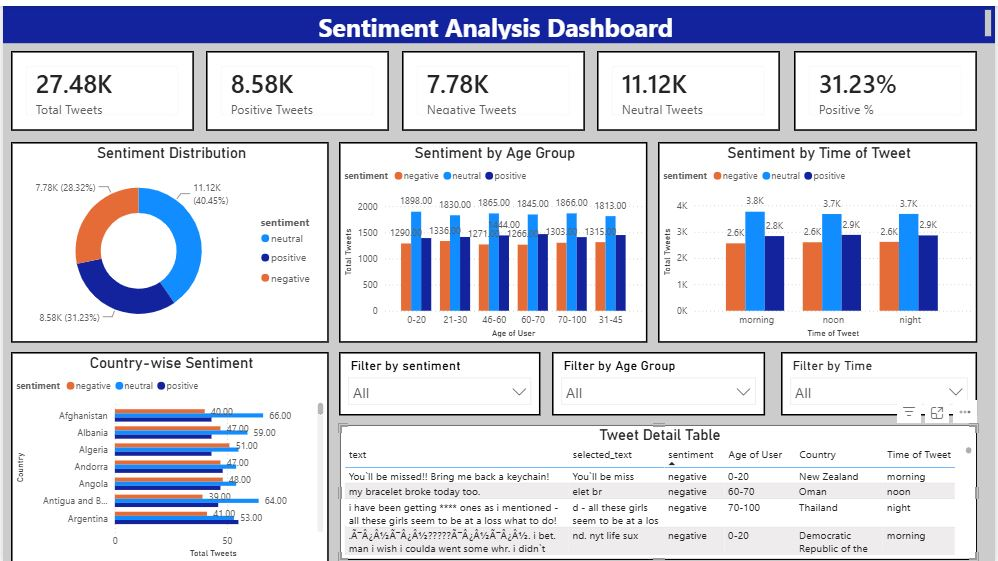

What the dashboard file says about the page in this screenshot:
{"tool":"powerbi","page":{"name":"Sentiment Analysis Dashboard","canvas":[1280,720],"ordinal":0},"visuals":[{"type":"cardVisual","fields":{"Data":["Train.Total Tweets"]},"box":[10.7,58.2,235.8,102.6],"z":0},{"type":"cardVisual","fields":{"Data":["Train.Positive Tweets"]},"box":[261.8,58.2,235.8,102.6],"z":1},{"type":"cardVisual","fields":{"Data":["Train.Negative Tweets"]},"box":[514.4,58.2,235.8,102.6],"z":2},{"type":"cardVisual","fields":{"Data":["Train.Neutral Tweets"]},"box":[767.1,58.2,235.8,102.6],"z":3},{"type":"cardVisual","fields":{"Data":["Train.Positive %"]},"box":[1021.2,58.2,235.8,102.6],"z":4},{"type":"donutChart","title":"Sentiment Distribution","fields":{"Category":["Train.sentiment"],"Y":["Train.Total Tweets"]},"box":[10.7,176.1,410.3,258.8],"z":5},{"type":"clusteredColumnChart","title":"Sentiment by Age Group","fields":{"Category":["Train.Age of User"],"Y":["Train.Total Tweets"],"Series":["Train.sentiment"]},"box":[433.3,176.1,398.1,258.8],"z":6},{"type":"clusteredColumnChart","title":"Sentiment by Time of Tweet","fields":{"Category":["Train.Time of Tweet"],"Y":["Train.Total Tweets"],"Series":["Train.sentiment"]},"box":[845.2,176.1,411.9,258.8],"z":7},{"type":"clusteredBarChart","title":"Country-wise Sentiment","fields":{"Category":["Train.Country"],"Y":["Train.Total Tweets"],"Series":["Train.sentiment"]},"box":[10.7,447.1,410.3,272.5],"z":8},{"type":"slicer","fields":{"Values":["Train.sentiment"]},"box":[433.7,446.7,260.2,82.4],"z":9},{"type":"slicer","fields":{"Values":["Train.Age of User"]},"box":[708.4,446.7,274.7,82.4],"z":10},{"type":"slicer","fields":{"Values":["Train.Time of Tweet"]},"box":[1003.4,446.7,253,82.4],"z":11},{"type":"tableEx","title":"Tweet Detail Table","fields":{"Values":["Train.text","Train.selected_text","Train.sentiment","Train.Age of User","Train.Country","Train.Time of Tweet"]},"box":[433.7,539.3,824.1,176.4],"z":12},{"type":"textbox","box":[0,0,1279.5,47.7],"z":13}]}

Visuals, with their boxes in screenshot pixels (x1, y1, x2, y2), scaled from the page's 1280x720 canvas onto the 998x561 screenshot:
cardVisual - Train.Total Tweets: <bbox>8, 45, 192, 125</bbox>
cardVisual - Train.Positive Tweets: <bbox>204, 45, 388, 125</bbox>
cardVisual - Train.Negative Tweets: <bbox>401, 45, 585, 125</bbox>
cardVisual - Train.Neutral Tweets: <bbox>598, 45, 782, 125</bbox>
cardVisual - Train.Positive %: <bbox>796, 45, 980, 125</bbox>
"Sentiment Distribution" donutChart: <bbox>8, 137, 328, 339</bbox>
"Sentiment by Age Group" clusteredColumnChart: <bbox>338, 137, 648, 339</bbox>
"Sentiment by Time of Tweet" clusteredColumnChart: <bbox>659, 137, 980, 339</bbox>
"Country-wise Sentiment" clusteredBarChart: <bbox>8, 348, 328, 560</bbox>
slicer - Train.sentiment: <bbox>338, 348, 541, 412</bbox>
slicer - Train.Age of User: <bbox>552, 348, 767, 412</bbox>
slicer - Train.Time of Tweet: <bbox>782, 348, 980, 412</bbox>
"Tweet Detail Table" tableEx: <bbox>338, 420, 981, 558</bbox>
textbox: <bbox>0, 0, 997, 37</bbox>
